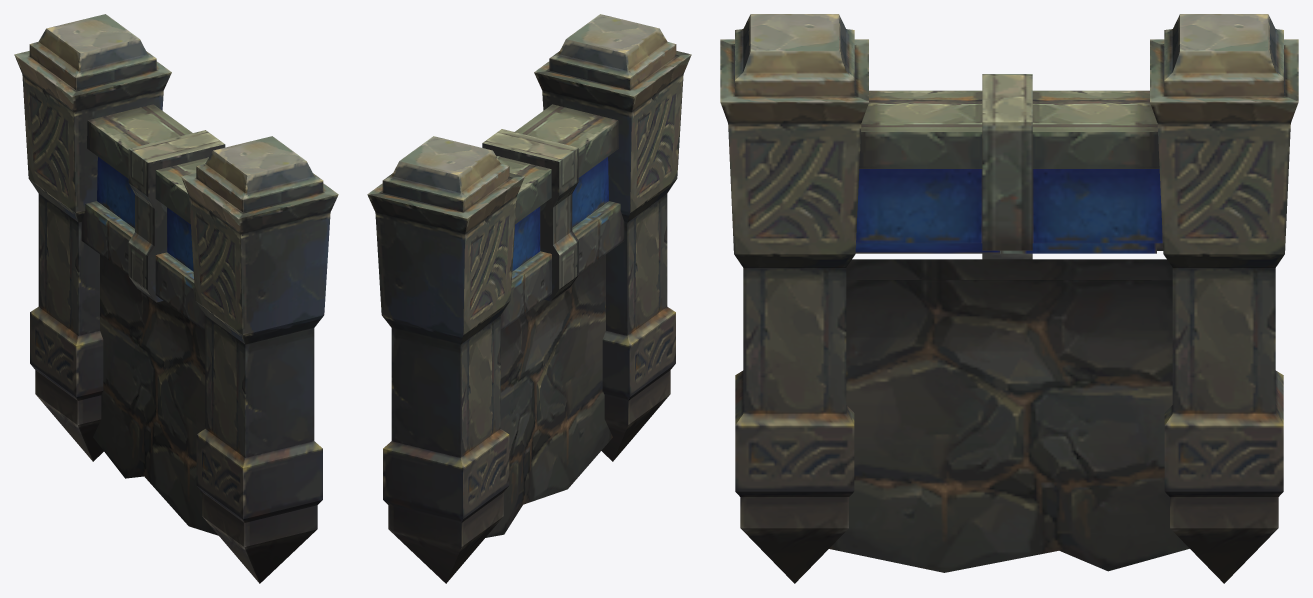
File: fb_fyqc_jz_02_g.FBX
The picture shows the model from 3 angles, left to right: view 1: azimuth 30°, elevation 25°; view 2: azimuth 150°, elevation 25°; view 3: azimuth 270°, elevation 25°; orthographic projection. The views are drawn at different scales.
Visible parts, largest first — view 1: Object001; view 2: Object001; view 3: Object001.
Boxes of the visible parts, left/top/right/bottom form: Object001: left=14, top=14, right=338, bottom=583; Object001: left=367, top=14, right=691, bottom=583; Object001: left=720, top=14, right=1298, bottom=583.
Size of the model in its own units: 449 by 1835 by 1745.
